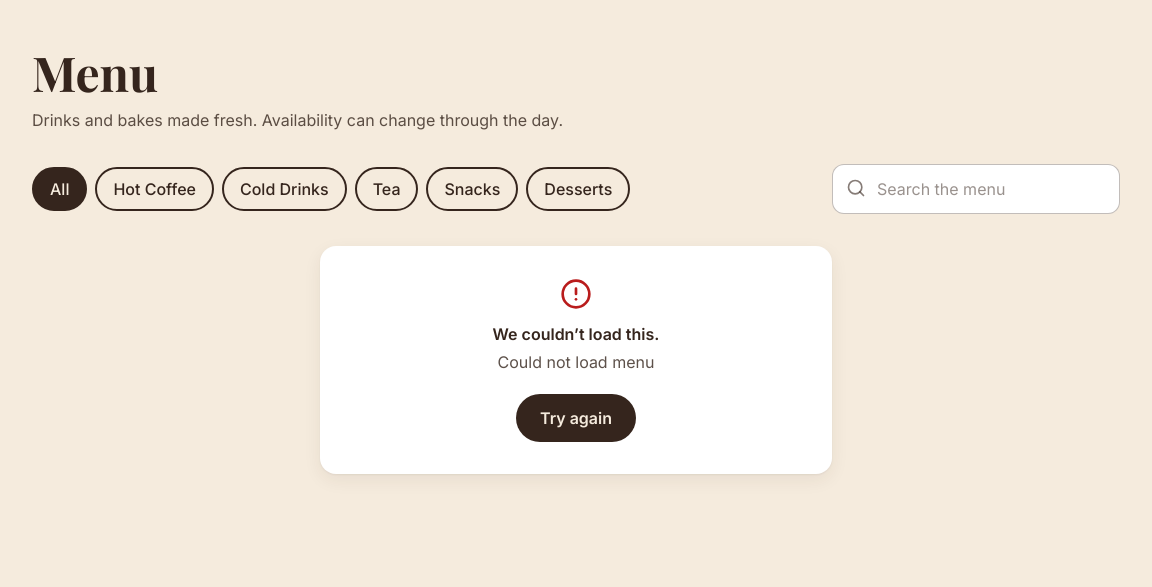
Menu page › shows an error and recovers on retry
This screenshot has width=1152, height=587.
Expected: the message shows "Could not load menu", [498, 352, 654, 372]
What coordinates should you click on to do the following:
click the button "Try again"
I would click on:
 (576, 418)
Its box is [516, 394, 636, 442].
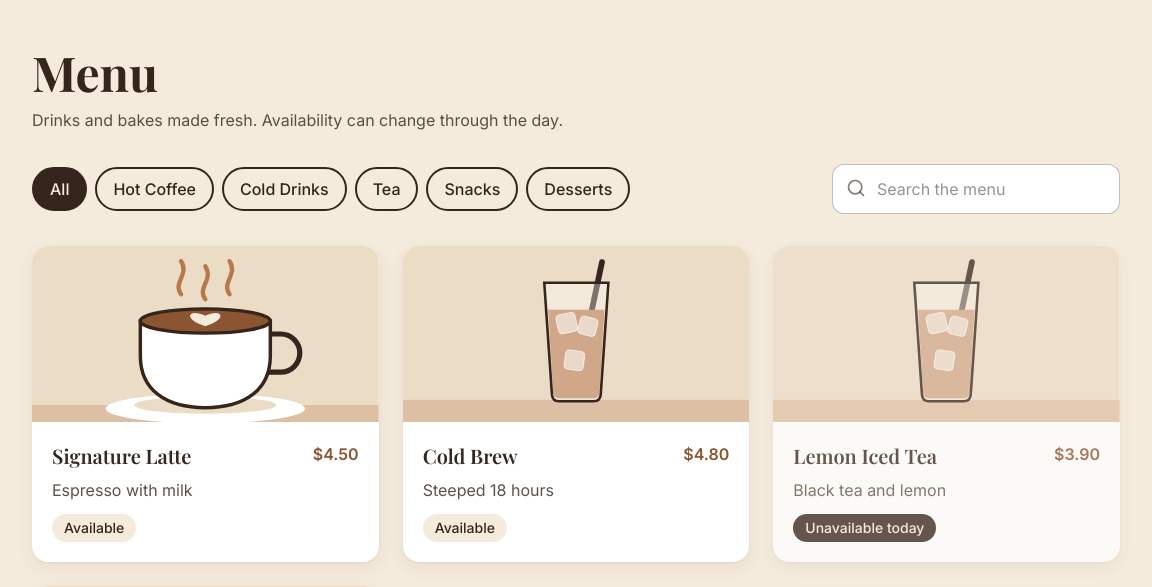
Expected: the heading "Signature Latte" is shown, [52, 442, 191, 470]
